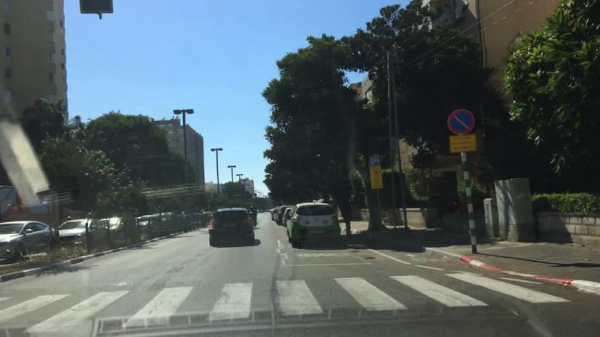car: (286, 202, 340, 249), (0, 220, 58, 263), (208, 206, 255, 247), (57, 217, 109, 246), (99, 217, 142, 242), (138, 215, 160, 234), (150, 212, 168, 231), (277, 205, 294, 225), (281, 207, 297, 227), (160, 213, 177, 228), (274, 205, 282, 222), (188, 213, 200, 224), (176, 213, 187, 225), (199, 212, 211, 220), (272, 206, 278, 220), (271, 207, 276, 220), (268, 208, 273, 213)
motor: (251, 216, 258, 227)
rider: (249, 206, 258, 220)
traffic sign: (445, 109, 475, 135), (367, 158, 383, 190), (450, 134, 476, 153)
